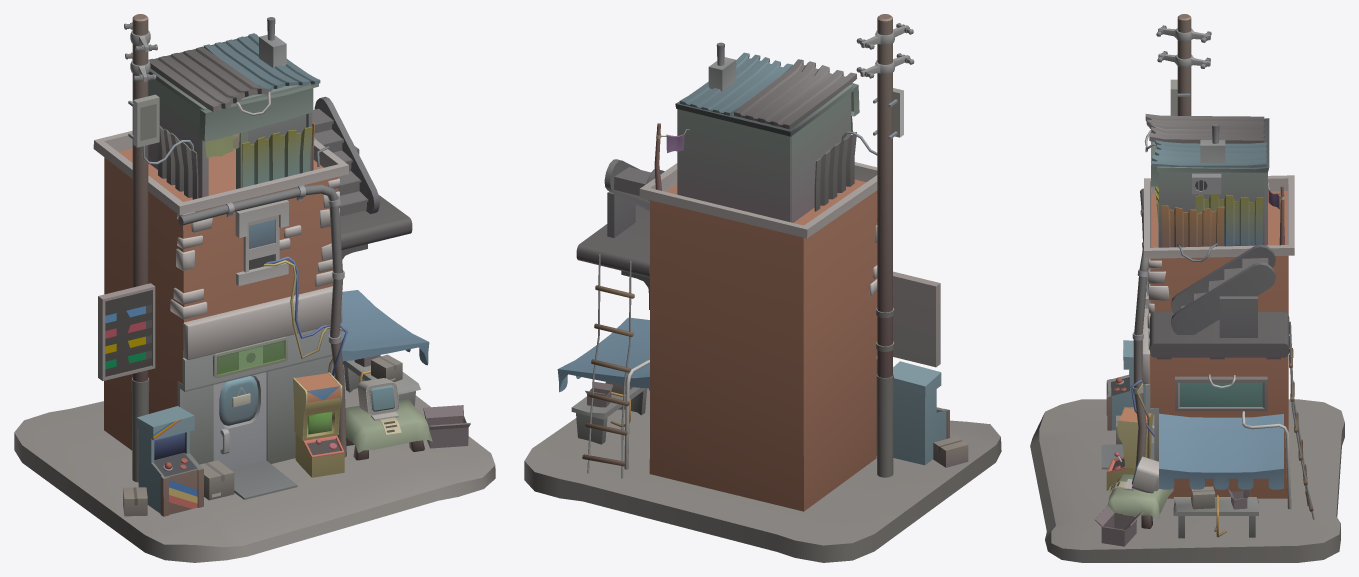
Rendered from building.glb.
3 renders of one model, left to right at view 1: azimuth 30°, elevation 25°; view 2: azimuth 150°, elevation 25°; view 3: azimuth 270°, elevation 25°, orthographic. The views are drawn at different scales.
Parts seen in each view (by area): view 1: Cube, Cube.014, Cube.008, Cube.019, Cube.062, Cylinder.005, Cube.002, Plane.006, Cube.020, Vert, Vert.005, Cube.055 (+27 smaller); view 2: Cube, Cube.014, Cube.059, Cylinder.005, Cube.019, Plane.006, Cube.062, Cube.054, Vert, Cube.004, Plane.005, Plane.007 (+9 smaller); view 3: Cube.014, Cube, Vert, Cube.004, Cube.015, Plane.006, Cube.010, Cube.001, Plane.003, Plane.005, Plane.004, Vert.005 (+20 smaller).
Boxes of the visible parts, x1,y1,x2,y2 form: Cube: (93,130,348,450); Cube.014: (14,365,495,562); Cube.008: (177,323,341,464); Cube.019: (136,406,203,516); Cube.062: (98,283,155,380); Cylinder.005: (131,14,149,482); Cube.002: (213,372,266,469); Plane.006: (148,46,268,111); Cube.020: (295,373,344,477); Vert: (341,290,429,365); Vert.005: (178,184,346,457); Cube.055: (199,85,313,141); Cube: (639,162,877,511); Cube.014: (524,388,1001,562); Cube.059: (677,109,791,222); Cylinder.005: (876,14,894,477); Cube.019: (893,361,949,465); Plane.006: (734,59,857,129); Cube.062: (893,271,940,367); Cube.054: (791,93,851,222); Vert: (557,317,649,392); Cube.004: (576,205,649,277); Plane.005: (679,52,792,115); Plane.007: (814,132,856,211); Cube.014: (1030,399,1344,562); Cube: (1142,175,1294,498); Vert: (1159,413,1283,489); Cube.004: (1150,312,1289,357); Cube.015: (1175,376,1267,411); Plane.006: (1145,114,1264,143); Cube.010: (1171,262,1275,334); Cube.001: (1159,172,1264,247); Plane.003: (1161,205,1224,247); Plane.005: (1152,140,1266,167); Plane.004: (1195,194,1263,246); Vert.005: (1133,188,1148,468).
Size of the model in its own units: 5.72 by 7.58 by 5.13.
